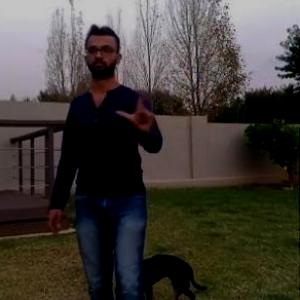land_hand: (116, 78, 159, 134)
